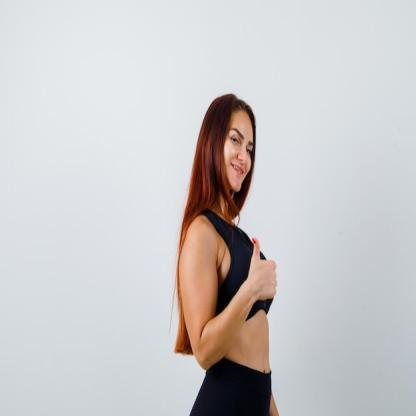thumb_up: (246, 233, 277, 306)
